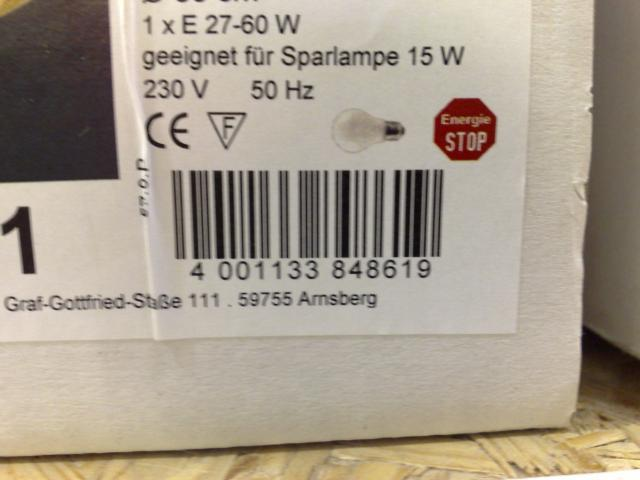Barcode: (159, 162, 458, 288)
